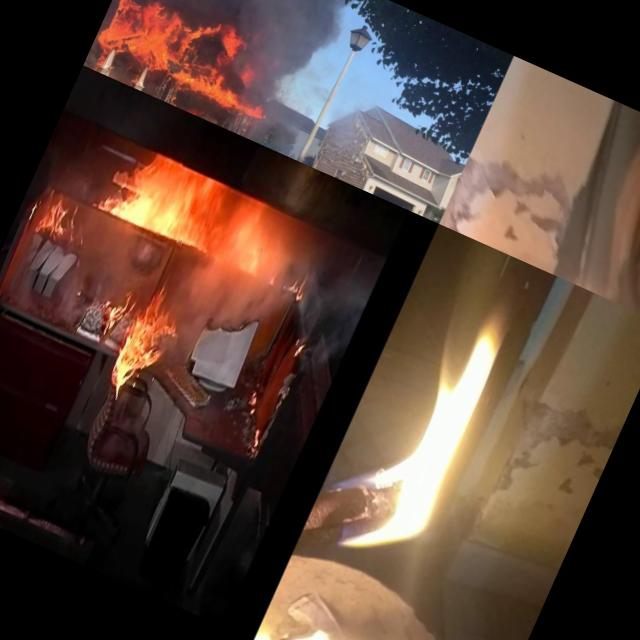fire: (323, 283, 547, 583), (94, 139, 316, 292), (90, 0, 247, 105), (85, 268, 201, 404), (26, 184, 98, 254), (253, 601, 368, 640), (218, 78, 274, 128)
smoke: (121, 0, 340, 68), (139, 0, 356, 28), (230, 38, 310, 106), (250, 132, 306, 164)
